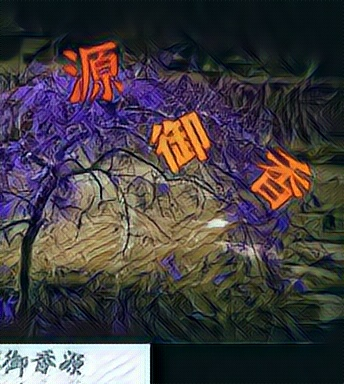CFE3: (249, 144, 312, 210)
D3F9: (149, 108, 212, 174)
D4B4: (63, 41, 126, 107)
